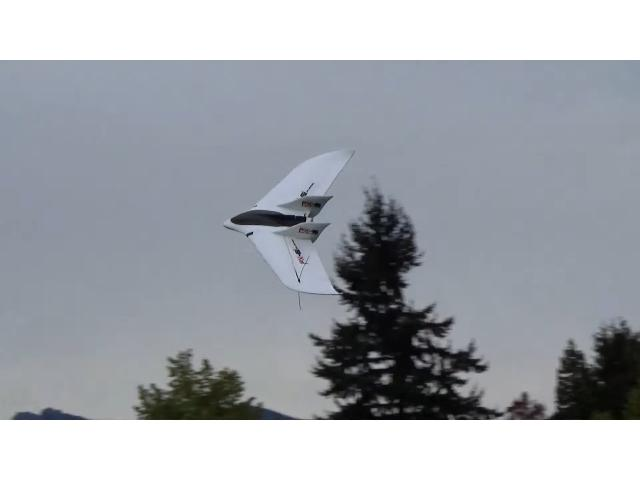Anti-Drone: (222, 149, 356, 295)
